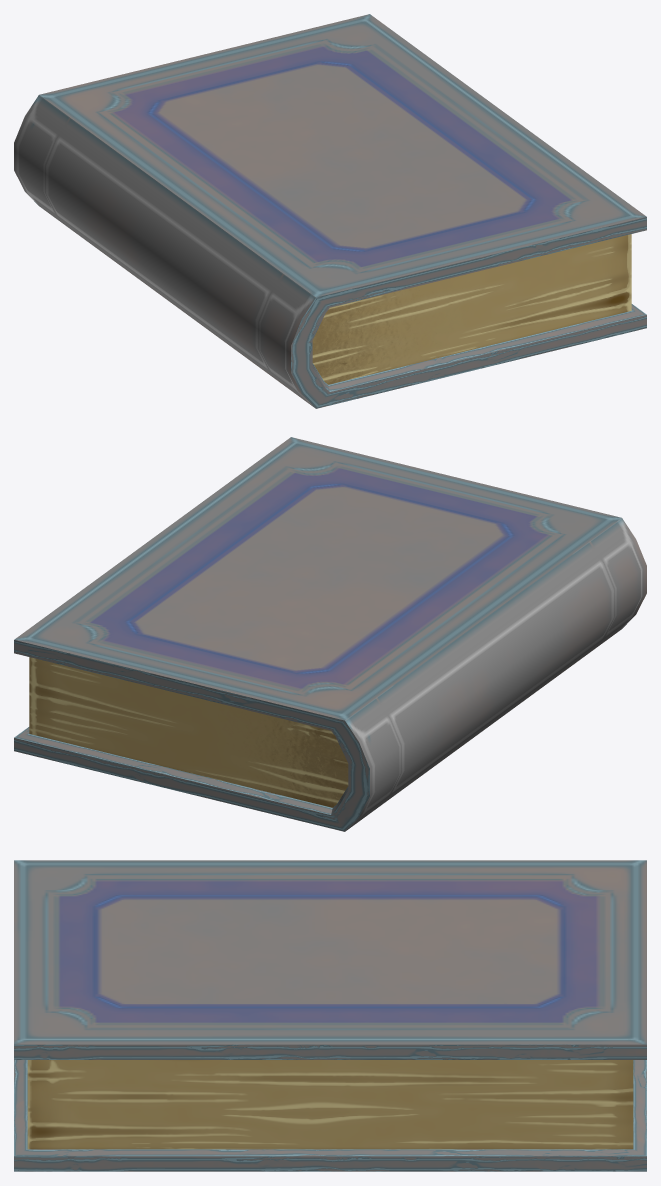
Rendered from Book_5.fbx.
3 views of the same model, one above another, from view 1: azimuth 30°, elevation 25°; view 2: azimuth 150°, elevation 25°; view 3: azimuth 270°, elevation 25° (orthographic). The views are drawn at different scales.
Visible parts, largest first — view 1: Book_5; view 2: Book_5; view 3: Book_5.
Part boxes in pixels (x1,y1,x2,y2): Book_5: (14, 14, 646, 408); Book_5: (14, 437, 646, 831); Book_5: (14, 860, 646, 1171).
Bounding box in the file's own units: 21.29 × 6.36 × 28.71.
